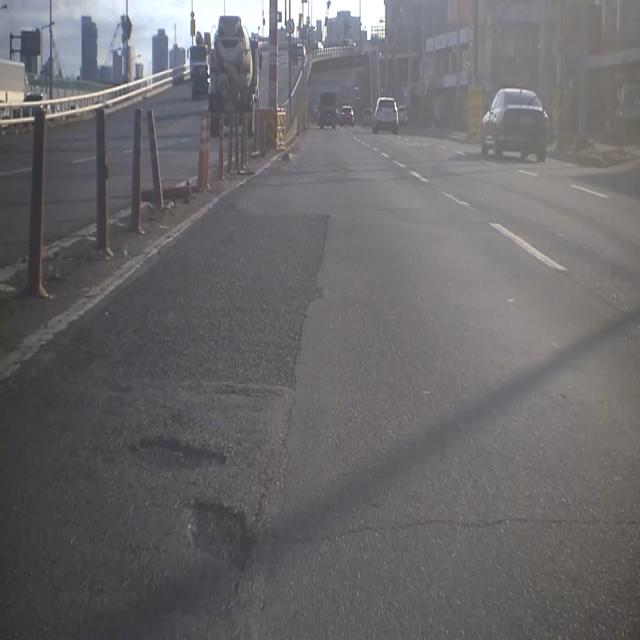Pothole: (116, 425, 236, 499), (178, 490, 263, 573)
